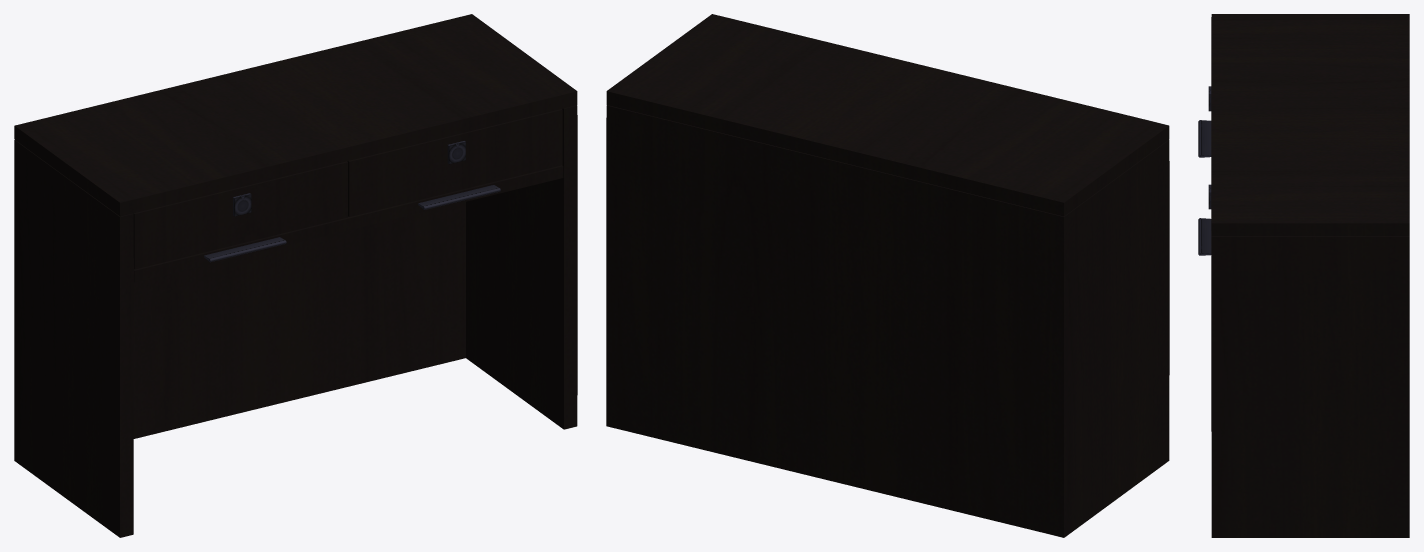
File: BedsideCabinet02B.FBX
3 views of the same model, side by side, from view 1: azimuth 30°, elevation 25°; view 2: azimuth 150°, elevation 25°; view 3: azimuth 270°, elevation 25° (orthographic). The views are drawn at different scales.
Visible parts, largest first — view 1: BedsideCabinet02B; view 2: BedsideCabinet02B; view 3: BedsideCabinet02B.
Boxes of the visible parts, x1,y1,x2,y2 form: BedsideCabinet02B: (14,14,577,537); BedsideCabinet02B: (606,14,1169,537); BedsideCabinet02B: (1198,14,1409,537).
Size of the model in its own units: 100 by 42.62 by 69.98.
